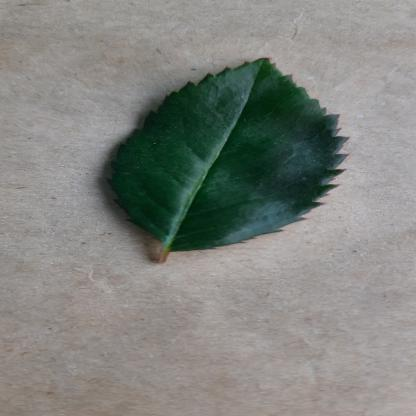normal: (87, 56, 377, 252)
